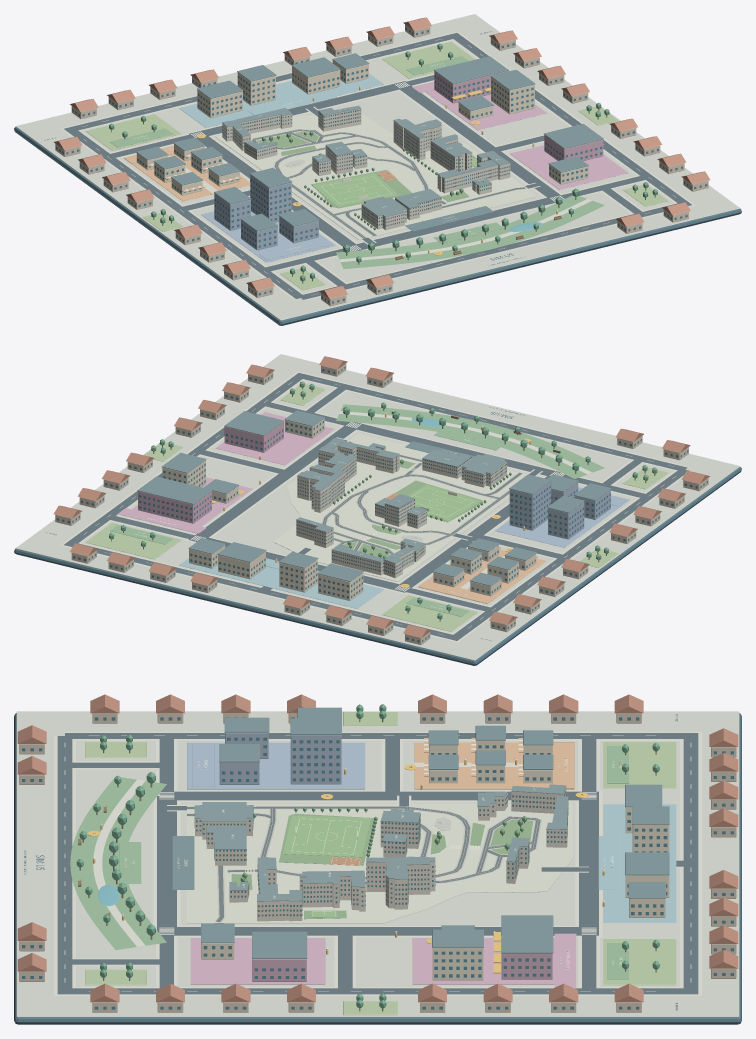
File: neighborhood.glb
The picture shows the model from 3 angles, top to bottom: view 1: azimuth 30°, elevation 25°; view 2: azimuth 150°, elevation 25°; view 3: azimuth 270°, elevation 25°; orthographic projection. The views are drawn at different scales.
Visible parts, largest first — view 1: Ground, Campus surface, Street 01, 200 x 200 m site, Pavement 01, Crescent park, Street 00, Street 03, Pavement 00, Academy precinct, Entertainment precinct, Sports field (+36 smaller); view 2: Ground, Campus surface, Street 01, 200 x 200 m site, Pavement 01, Crescent park, Street 00, Pavement 00, Academy precinct, Street 03, Entertainment precinct, Street 02 (+35 smaller); view 3: Ground, Campus surface, Street 01, 200 x 200 m site, Pavement 01, Street 00, Crescent park, Business precinct, Street 02, Pavement 00, Street 03, Entertainment precinct (+63 smaller).
Boxes of the visible parts, left/top/right/bottom form: Ground: left=15, top=14, right=740, bottom=320; Campus surface: left=215, top=113, right=537, bottom=239; Street 01: left=64, top=33, right=691, bottom=299; 200 x 200 m site: left=14, top=127, right=741, bottom=325; Pavement 01: left=60, top=31, right=695, bottom=300; Crescent park: left=336, top=195, right=604, bottom=268; Street 00: left=189, top=81, right=560, bottom=250; Street 03: left=261, top=175, right=649, bottom=272; Pavement 00: left=185, top=79, right=561, bottom=250; Academy precinct: left=179, top=73, right=383, bottom=127; Entertainment precinct: left=510, top=145, right=628, bottom=189; Sports field: left=312, top=173, right=398, bottom=206; Ground: left=15, top=354, right=740, bottom=660; Campus surface: left=273, top=433, right=527, bottom=581; Street 01: left=64, top=373, right=689, bottom=640; 200 x 200 m site: left=14, top=467, right=741, bottom=665; Pavement 01: left=60, top=371, right=691, bottom=642; Crescent park: left=336, top=404, right=604, bottom=478; Street 00: left=189, top=422, right=560, bottom=592; Pavement 00: left=185, top=422, right=558, bottom=594; Academy precinct: left=179, top=558, right=383, bottom=608; Street 03: left=261, top=401, right=649, bottom=498; Entertainment precinct: left=215, top=412, right=333, bottom=465; Street 02: left=106, top=515, right=494, bottom=612; Ground: left=16, top=711, right=739, bottom=1016; Campus surface: left=187, top=803, right=572, bottom=923; Street 01: left=57, top=733, right=698, bottom=994; 200 x 200 m site: left=14, top=713, right=741, bottom=1024; Pavement 01: left=54, top=731, right=701, bottom=995; Street 00: left=157, top=791, right=598, bottom=935; Crescent park: left=70, top=777, right=166, bottom=949; Business precinct: left=187, top=742, right=365, bottom=789; Street 02: left=582, top=736, right=596, bottom=991; Pavement 00: left=153, top=790, right=602, bottom=937; Street 03: left=159, top=736, right=173, bottom=987; Entertainment precinct: left=190, top=938, right=325, bottom=984.
Bounding box in the file's own units: 200 × 18.25 × 200.
